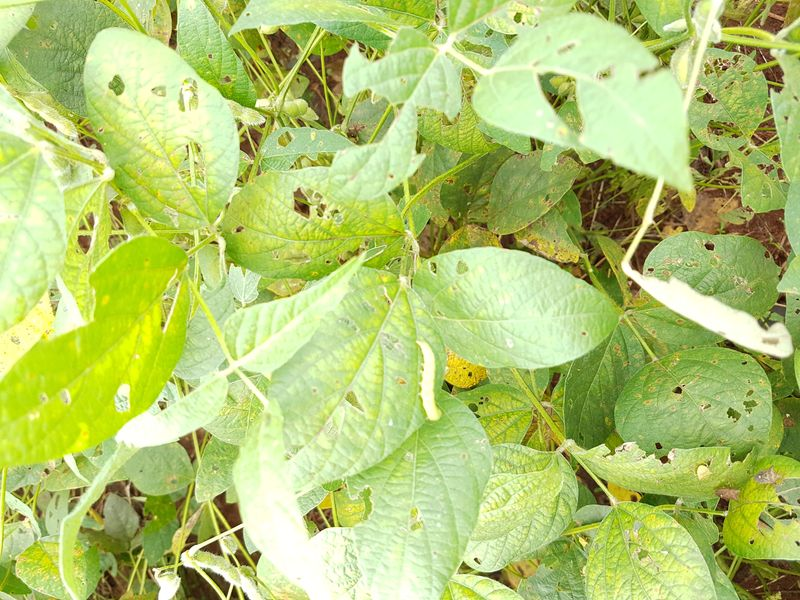Anticarsia_gemmatalis: (394, 335, 456, 428)
Euschistus_heros_adulto: (749, 463, 784, 491), (710, 482, 744, 508), (344, 124, 360, 141)
Euschistus_heros_ninfa: (691, 461, 715, 483)
